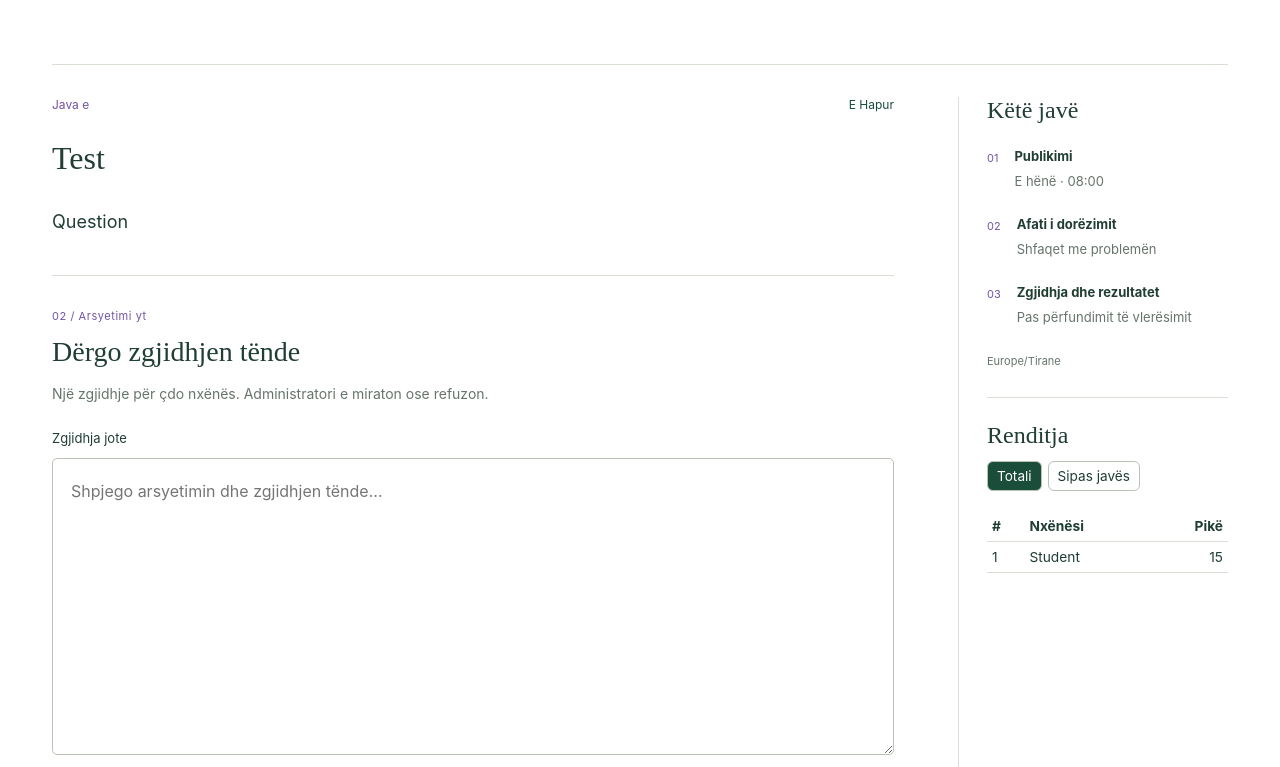
published rankings can be inspected by week while the current problem is open
The width and height of the screenshot is (1280, 767).
Check: the text "15" is shown, box [1152,542,1228,572]
Click the button "Sipas javës". click: (1094, 476)
box: [1048,461,1140,491]
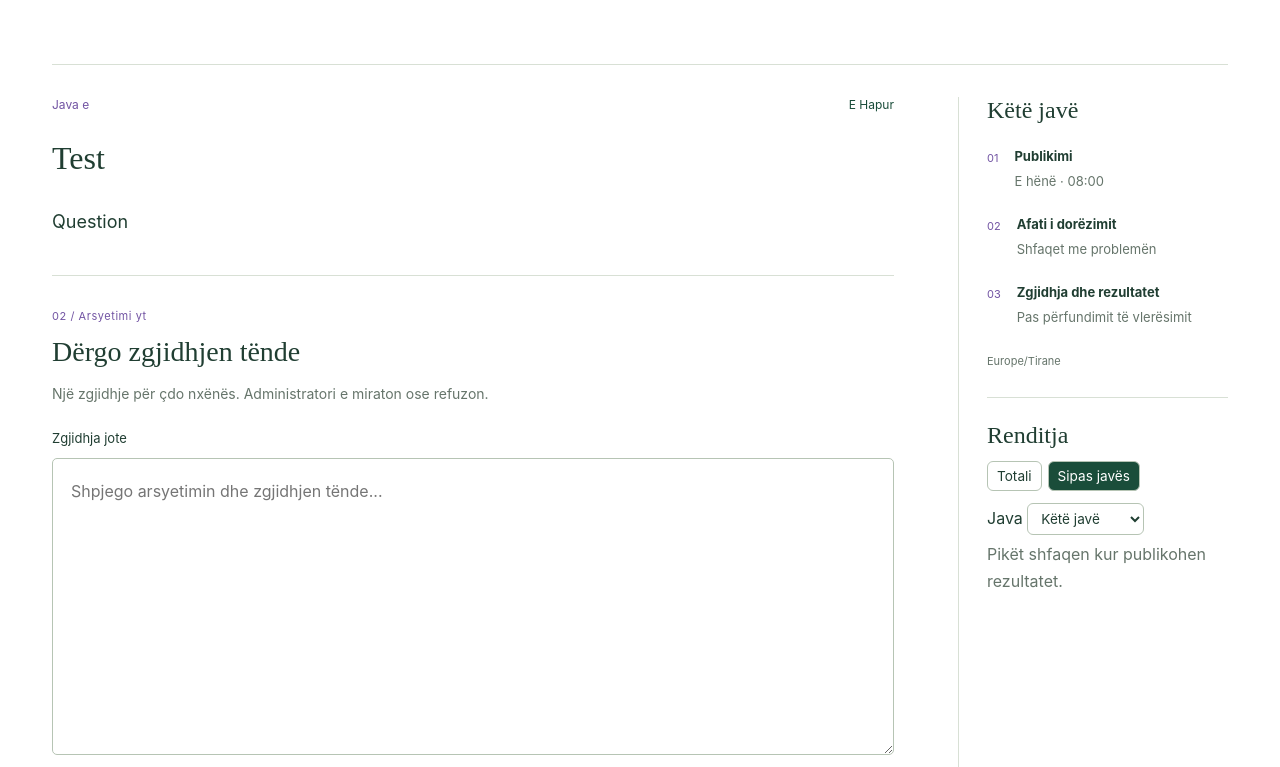
Check: the text "Pikët shfaqen kur publikohen rezultatet." is shown, box [987,541,1228,595]
Select "2026-10-05" in the dropdown labelled "Java". click: (1086, 519)
box: [1027,503,1144,535]
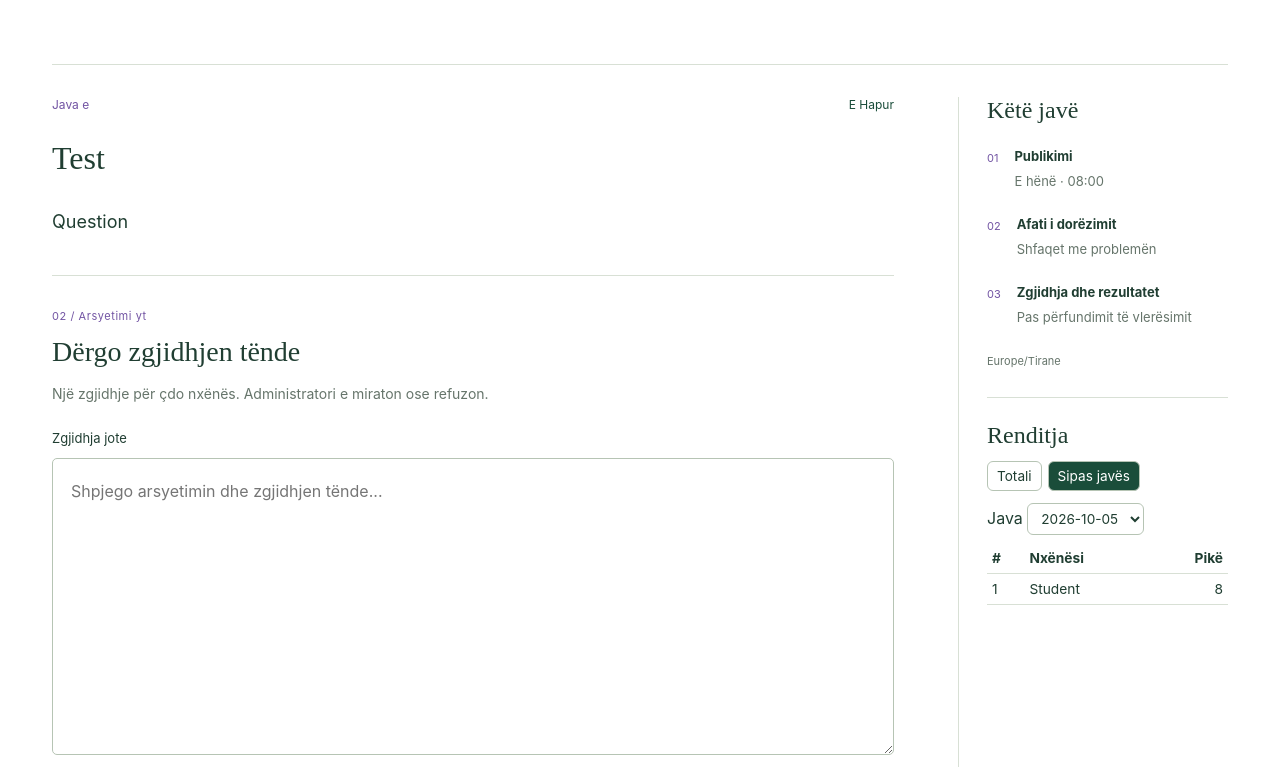
Check: the text "8" is shown, box [1152,574,1228,604]
